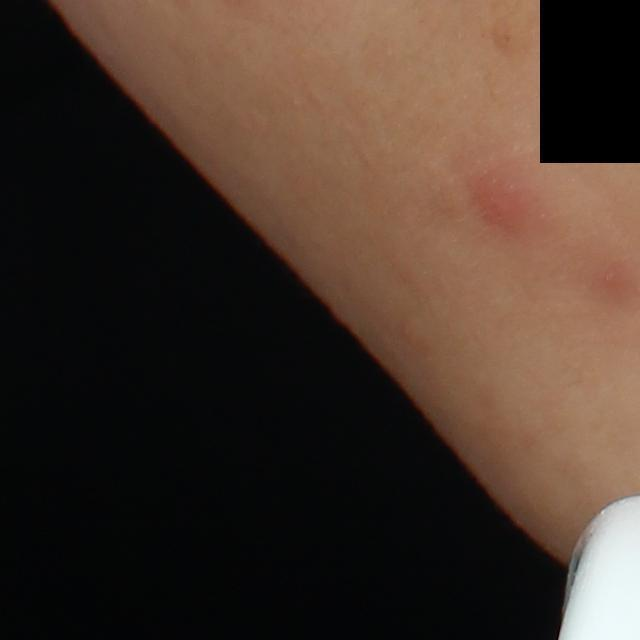papule: (463, 162, 542, 239)
